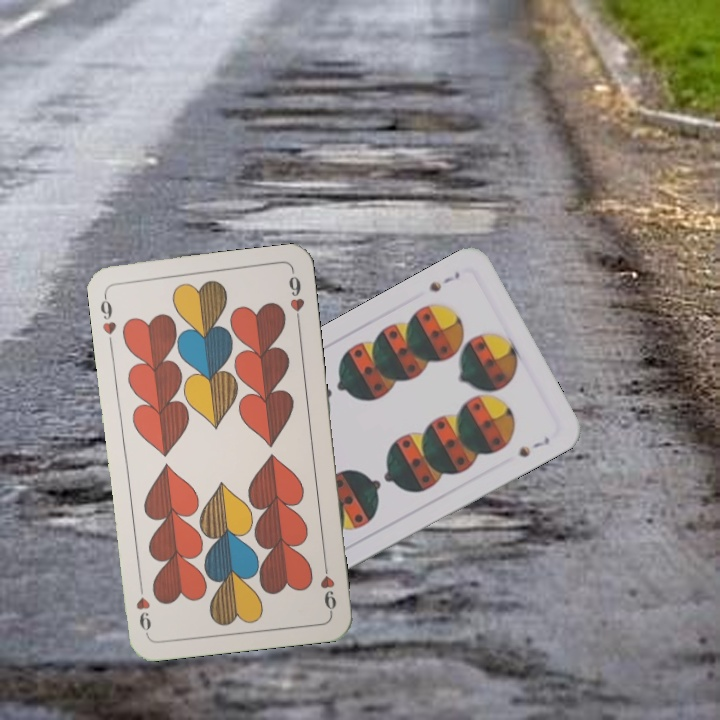H9: (316, 556, 339, 615), (96, 289, 119, 337)
S7: (425, 267, 463, 295)
